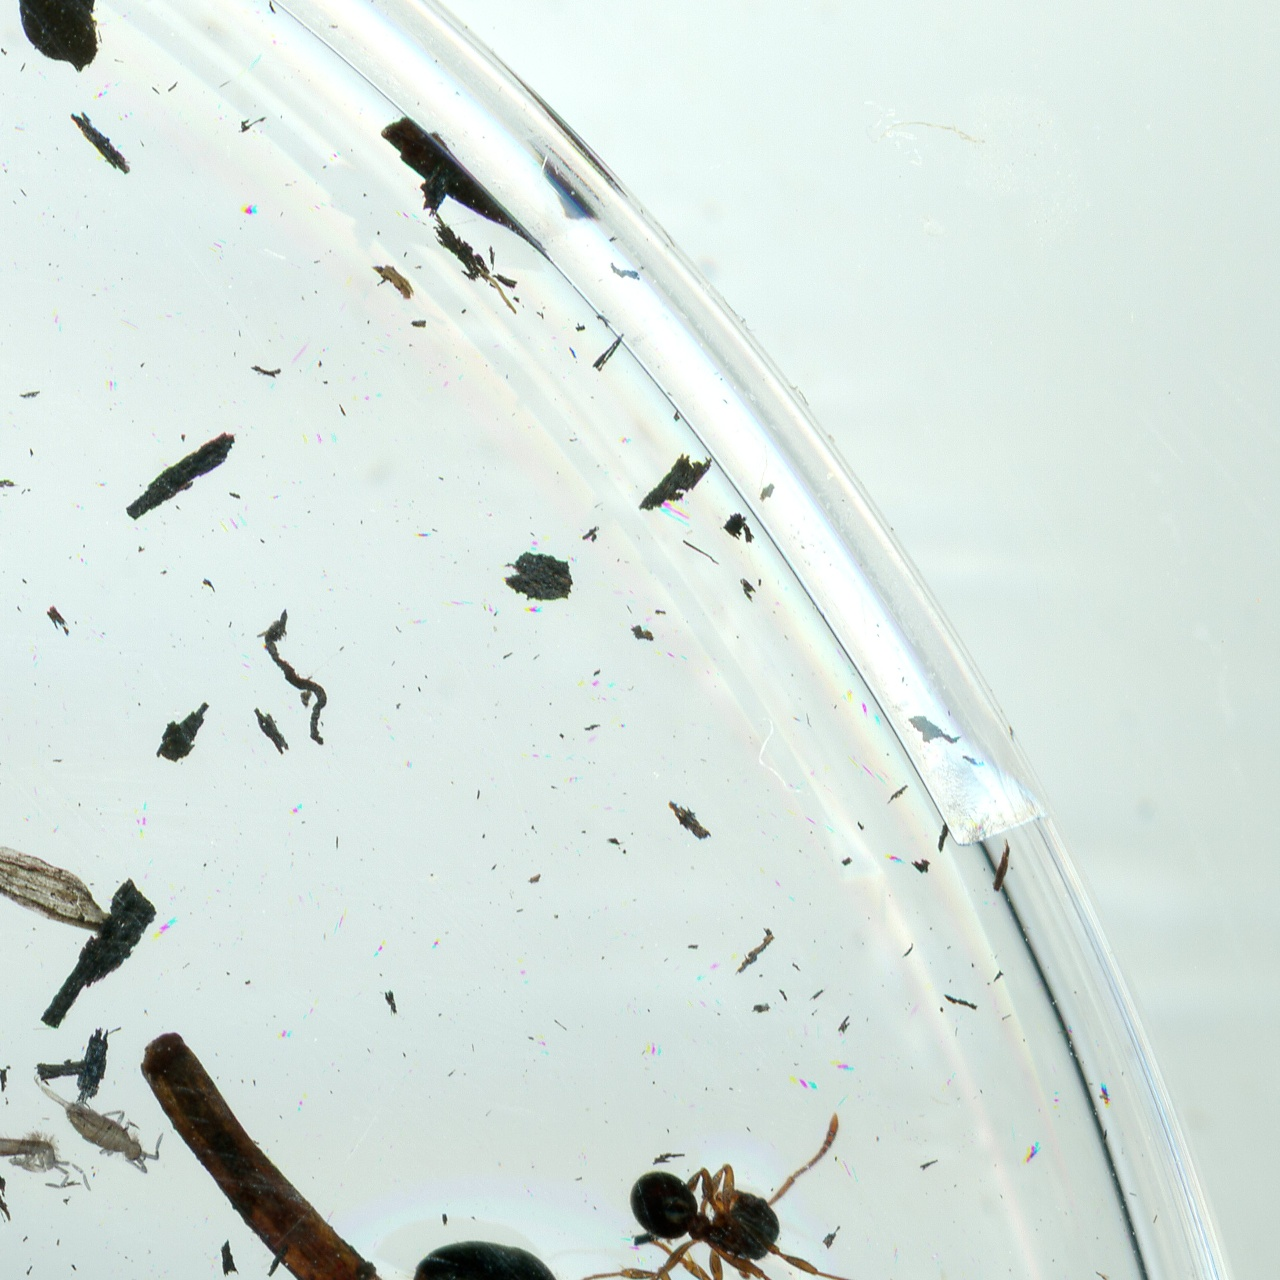arthropod: (559, 1106, 915, 1280), (298, 1229, 814, 1280), (12, 1065, 180, 1187), (0, 1104, 95, 1198)
